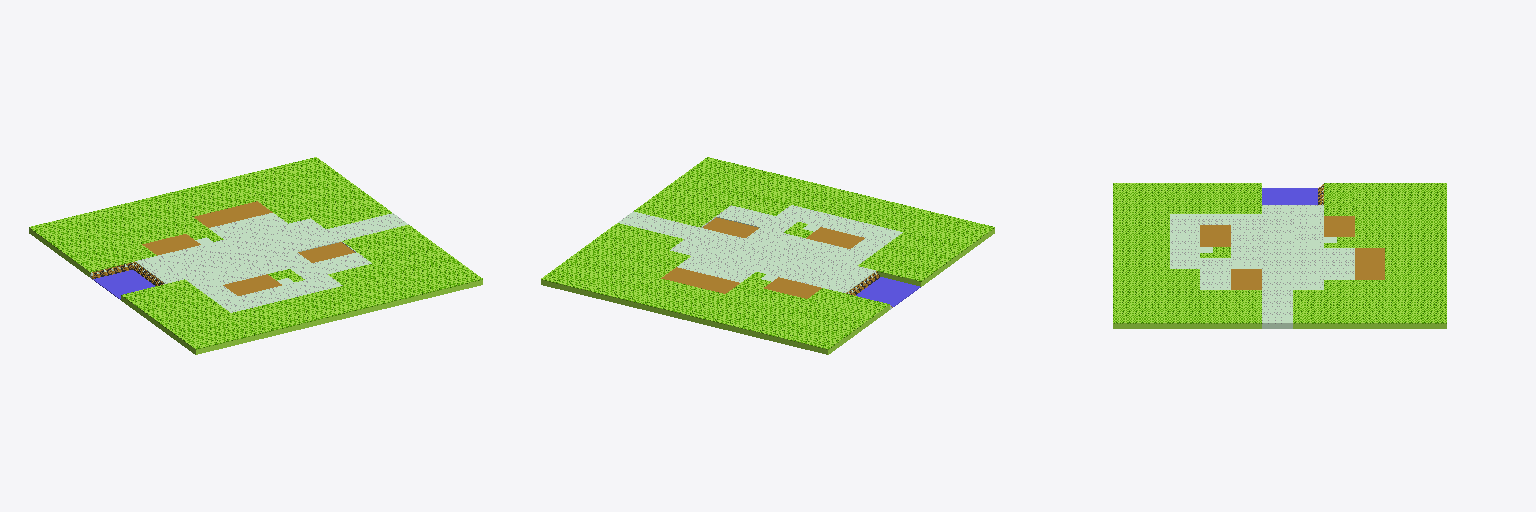
The picture shows the model from 3 angles: view 1: azimuth 30°, elevation 25°; view 2: azimuth 150°, elevation 25°; view 3: azimuth 270°, elevation 25°; orthographic projection.
Visible parts, largest first — view 1: Model; view 2: Model; view 3: Model.
Boxes of the visible parts, x1,y1,x2,y2 form: Model: [29, 157, 482, 354]; Model: [541, 157, 994, 354]; Model: [1113, 183, 1446, 328].
Size of the model in its own units: 411 by 8.02 by 413.
1 materials, 1 textured.